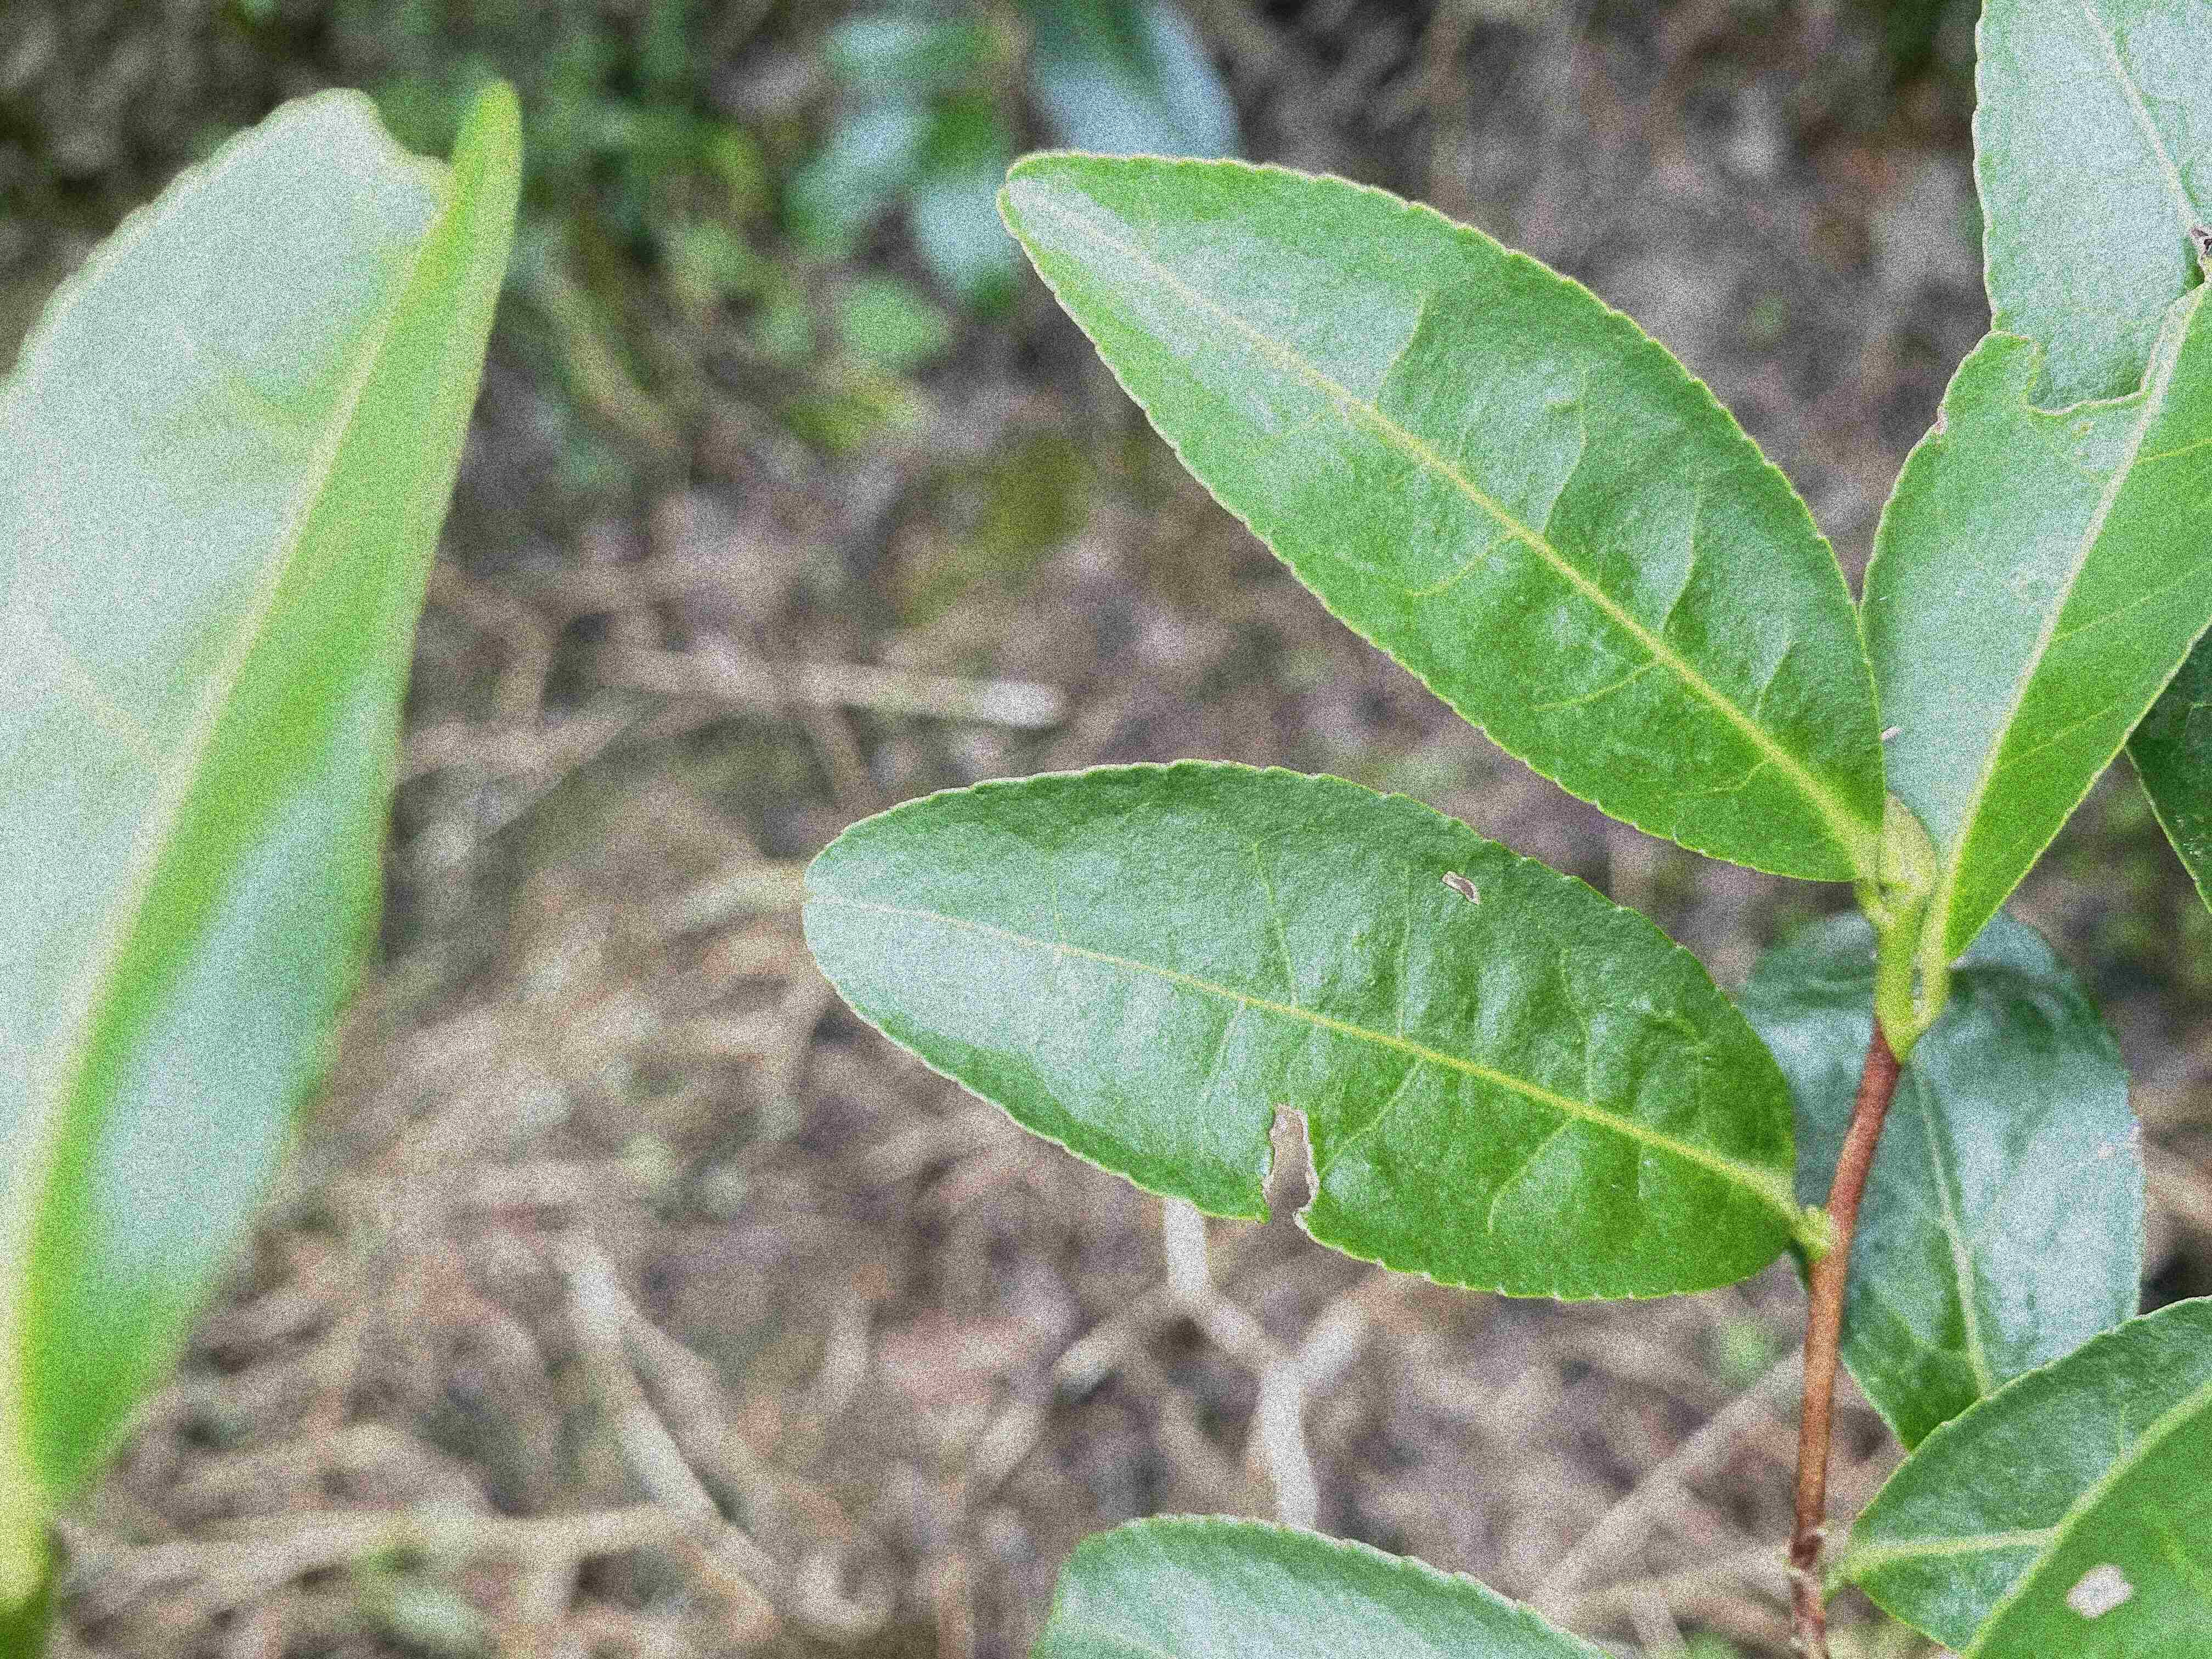chihuo_low: (803, 751, 1796, 1305), (1860, 284, 2209, 964)
healthy: (996, 143, 1893, 885)
